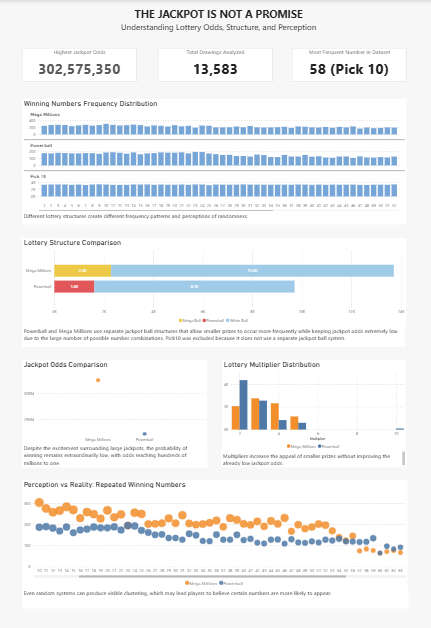

The page's visual inventory and layout, read from the dashboard file:
{"tool":"powerbi","page":{"name":"The Jackpot Is Not a Promise","canvas":[1280,2000],"ordinal":0},"visuals":[{"type":"card","title":"Highest Jackpot Odds","fields":{"Values":["Max(Jackpot Odds.Odds)"]},"box":[66.2,142.1,340,100],"z":0},{"type":"barChart","title":"Lottery Structure Comparison","fields":{"Y":["CountNonNull(Combined Lottery Winning.Winning Number)"],"Series":["Combined Lottery Winning.Number Type"],"Category":["Combined Lottery Winning.Lottery Name"]},"box":[66.6,705.2,1139.6,263.3],"z":0,"group":"g2"},{"type":"clusteredColumnChart","title":"Lottery Multiplier Distribution","fields":{"Category":["Combined Lottery Winning.Multiplier"],"Y":["CountNonNull(Combined Lottery Winning.Multiplier)"],"Series":["Combined Lottery Winning.Lottery Name"]},"box":[658.8,1068.5,544.6,273.6],"z":0,"group":"g3"},{"type":"scatterChart","title":"Perception vs Reality: Repeated Winning Numbers","fields":{"X":["Combined Lottery Winning.Winning Number"],"Y":["CountNonNull(Combined Lottery Winning.Winning Number)1"],"Series":["Combined Lottery Winning.Lottery Name"],"Size":["CountNonNull(Combined Lottery Winning.Winning Number)1"]},"box":[66.1,1424,1144.2,324.7],"z":0,"group":"g1"},{"type":"card","title":"Total Drawings Analyzed","fields":{"Values":["Combined Lottery Winning.Total Drawings Analyzed"]},"box":[468,142.1,340,100],"z":1000},{"type":"textbox","box":[66,965.5,1137.2,61.9],"z":1000,"group":"g2"},{"type":"textbox","box":[655,1336.7,551,51.4],"z":1000,"group":"g3"},{"type":"textbox","box":[66,1744.3,1147.5,60.7],"z":1000,"group":"g1"},{"type":"card","title":"Most Frequent Number in Dataset","fields":{"Values":["Combined Lottery Winning.Most Frequently Drawn Number"]},"box":[868,141.6,340,100],"z":2000},{"type":"textbox","box":[69.7,15,1161,102.9],"z":3000},{"type":"clusteredColumnChart","title":"Winning Numbers Frequency Distribution","fields":{"Category":["Combined Lottery Winning.Winning Number"],"Y":["CountNonNull(Combined Lottery Winning.Winning Number)"],"Rows":["Combined Lottery Winning.Lottery Name"]},"box":[66.2,293.3,1141,343.3],"z":5000,"group":"g5"},{"type":"group","id":"g1","title":"Group 1","box":[66,1424,1147.5,381],"z":5000},{"type":"group","id":"g2","title":"Group 2","box":[66,705.2,1140.2,322.3],"z":6000},{"type":"group","id":"g3","title":"Group 3","box":[655,1068.5,550.9,320],"z":7000},{"type":"scatterChart","title":"Jackpot Odds Comparison","fields":{"X":["Jackpot Odds.Lottery Name"],"Y":["Sum(Jackpot Odds.Odds)"]},"box":[67.5,1068.8,548.7,252.9],"z":7002,"group":"g4"},{"type":"textbox","box":[66.4,1315.9,550,73.2],"z":7013,"group":"g4"},{"type":"group","id":"g4","title":"Group 4","box":[66.4,1068.8,549.9,319.6],"z":8000},{"type":"group","id":"g5","title":"Group 5","box":[66.2,293.3,1141,371.5],"z":9000},{"type":"textbox","box":[67.7,625.3,1139.6,39.5],"z":9001,"group":"g5"}]}

Visuals, with their boxes on the page's 1280x2000 design canvas (x1, y1, x2, y2). These are canvas units, not pixel positions in the 431x628 screenshot, which may show the page scaled, cropped or inside an application window:
"Highest Jackpot Odds" card: left=66, top=142, right=406, bottom=242
"Lottery Structure Comparison" barChart: left=67, top=705, right=1206, bottom=968
"Lottery Multiplier Distribution" clusteredColumnChart: left=659, top=1068, right=1203, bottom=1342
"Perception vs Reality: Repeated Winning Numbers" scatterChart: left=66, top=1424, right=1210, bottom=1749
"Total Drawings Analyzed" card: left=468, top=142, right=808, bottom=242
textbox: left=66, top=966, right=1203, bottom=1027
textbox: left=655, top=1337, right=1206, bottom=1388
textbox: left=66, top=1744, right=1214, bottom=1805
"Most Frequent Number in Dataset" card: left=868, top=142, right=1208, bottom=242
textbox: left=70, top=15, right=1231, bottom=118
"Winning Numbers Frequency Distribution" clusteredColumnChart: left=66, top=293, right=1207, bottom=637
"Group 1" group: left=66, top=1424, right=1214, bottom=1805
"Group 2" group: left=66, top=705, right=1206, bottom=1028
"Group 3" group: left=655, top=1068, right=1206, bottom=1388
"Jackpot Odds Comparison" scatterChart: left=68, top=1069, right=616, bottom=1322
textbox: left=66, top=1316, right=616, bottom=1389
"Group 4" group: left=66, top=1069, right=616, bottom=1388
"Group 5" group: left=66, top=293, right=1207, bottom=665
textbox: left=68, top=625, right=1207, bottom=665
